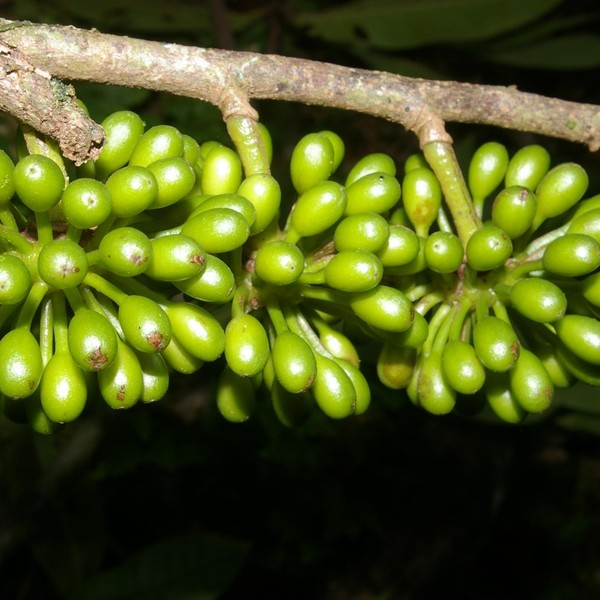obstacle: (23, 23, 566, 445)
